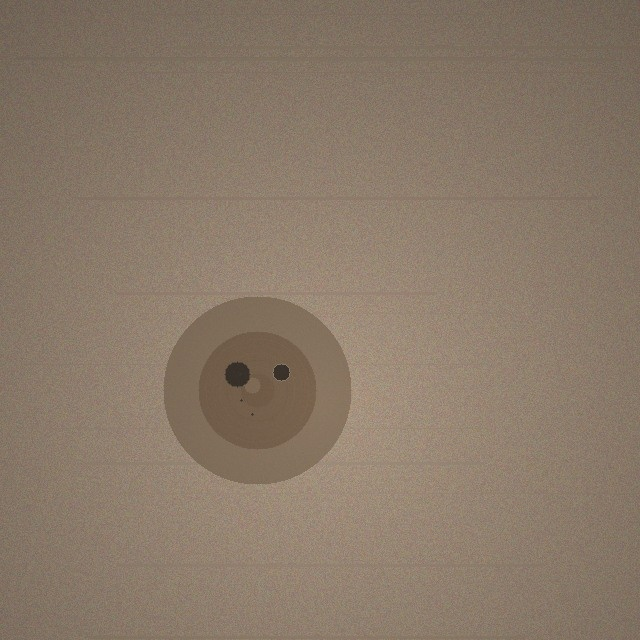shrinkage: (163, 296, 351, 484)
